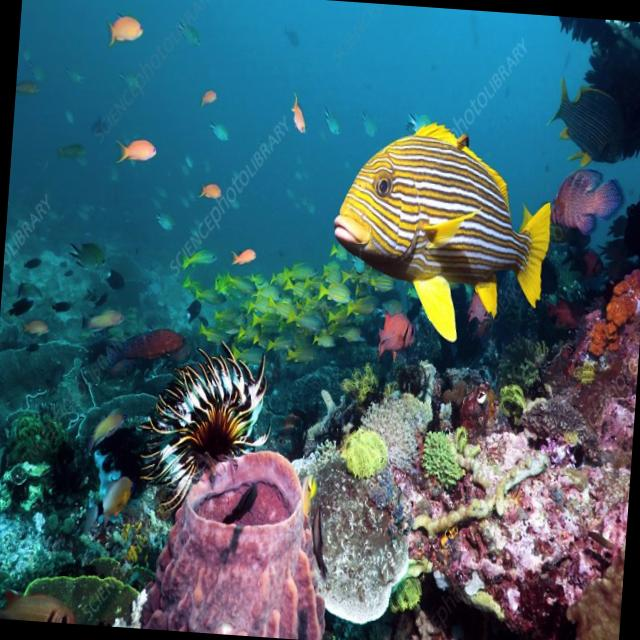RibbonedSweetlips: (325, 110, 558, 348)
